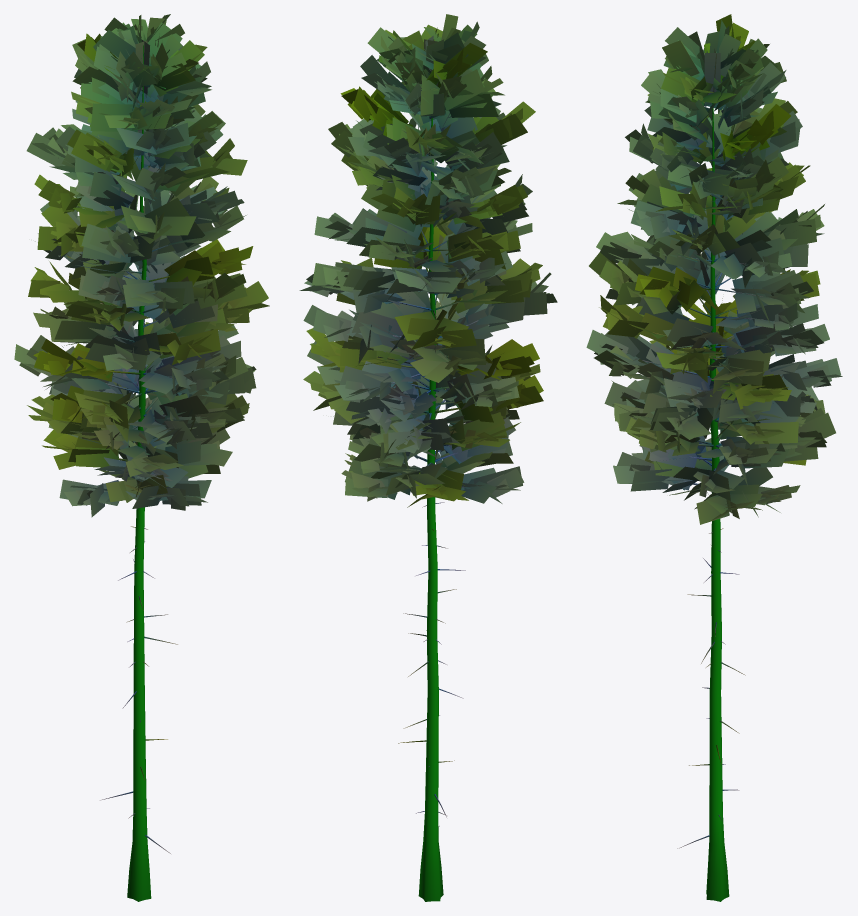
Rendered from lodgepole_b.glb.
The picture shows the model from 3 angles, left to right: view 1: azimuth 30°, elevation 25°; view 2: azimuth 150°, elevation 25°; view 3: azimuth 270°, elevation 25°; orthographic projection.
Parts seen in each view (by area): view 1: LOD0; view 2: LOD0; view 3: LOD0.
Part boxes in pixels (x1,y1,x2,y2): LOD0: [14, 14, 269, 901]; LOD0: [299, 14, 557, 901]; LOD0: [586, 14, 842, 901].
Size of what is drawn, in the model's own units: 4.51 by 17.81 by 4.81.
